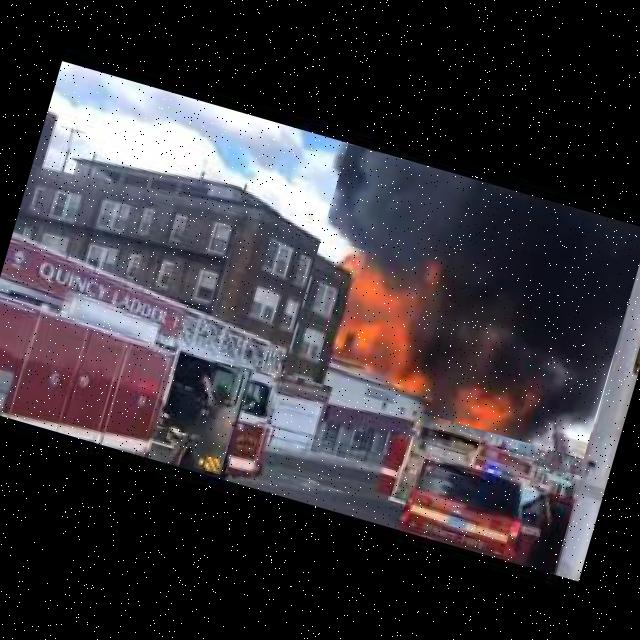fire: (282, 144, 640, 459)
